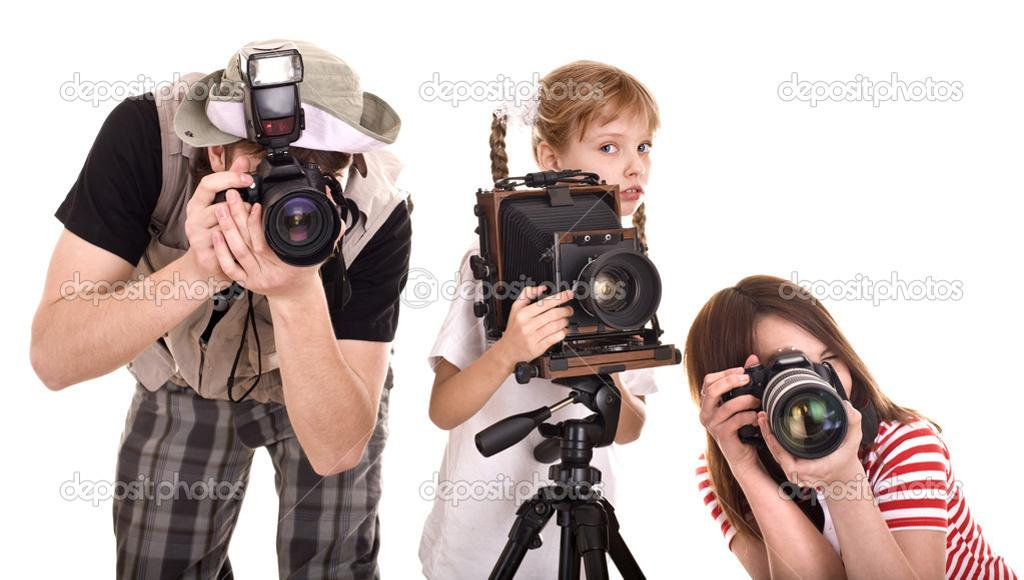face: (736, 310, 854, 458), (236, 124, 344, 252), (578, 106, 654, 216)
